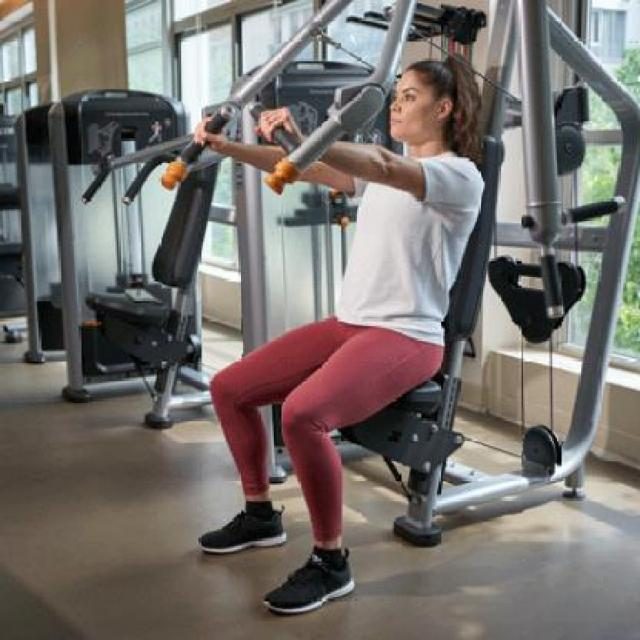Chest Press machine: (144, 3, 640, 632)
